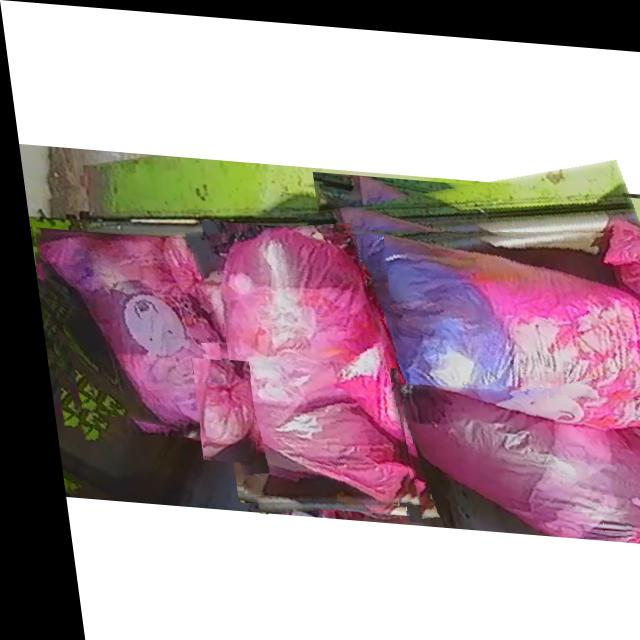other_trashbag: (335, 220, 640, 410), (213, 226, 397, 499), (387, 375, 640, 535), (30, 234, 224, 428), (191, 358, 242, 456)
